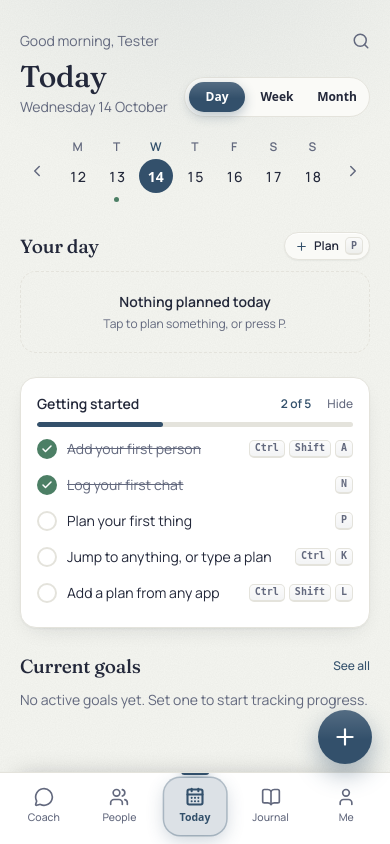
Test: activity › a profile shows its six months of logs, and a day opens the Journal on that person's logs that day
The width and height of the screenshot is (390, 844).
Click the button "People" at (119, 807), box x1=82 y1=781 x2=157 y2=832
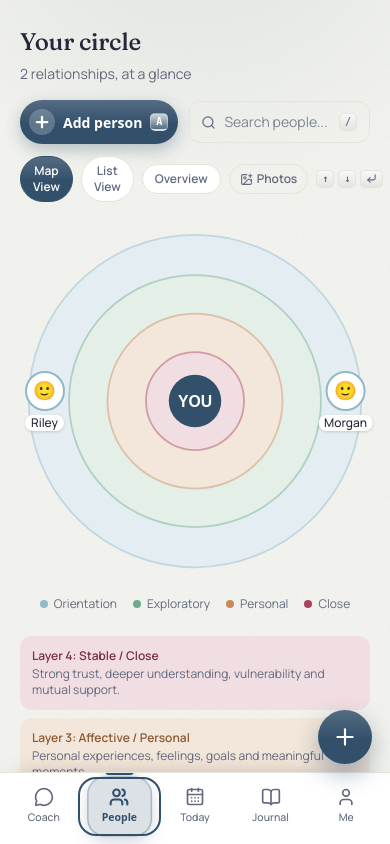
Click the button "🙂 Morgan" at (346, 401), box x1=318 y1=371 x2=373 y2=431
(page scrolled)
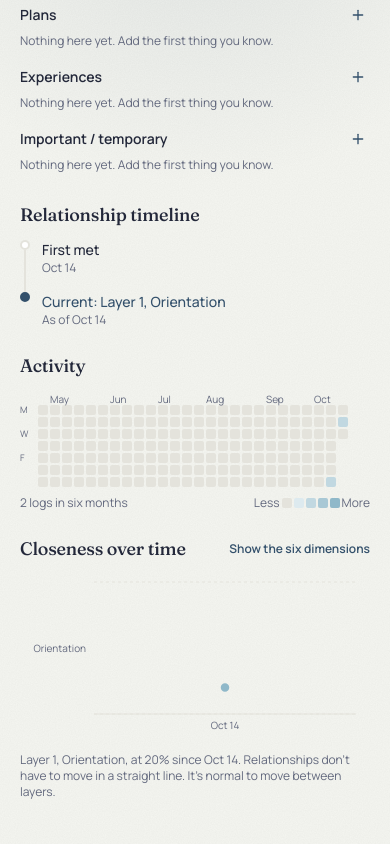
Click the button named "Yesterday: 1 log" at (343, 422), box x1=338 y1=417 x2=348 y2=427
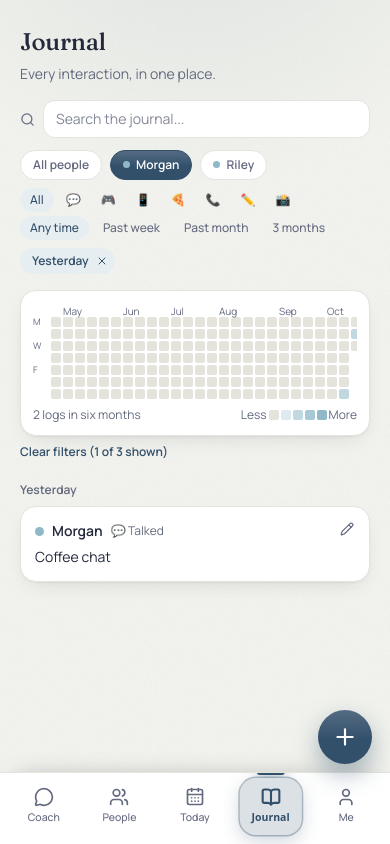
Expected: the text "Long call" is not shown
Expected: the text "Coffee chat" is shown, x1=35 y1=547 x2=111 y2=566
Click the button named "Any day" at (102, 261), box x1=93 y1=252 x2=111 y2=270
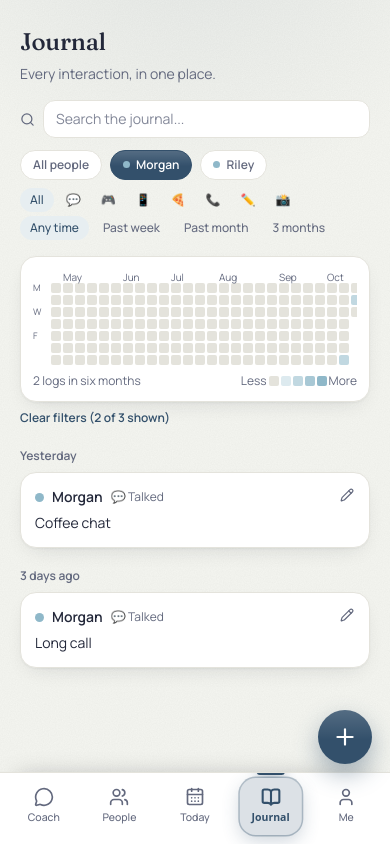
Expected: the text "Long call" is shown, x1=35 y1=633 x2=92 y2=652
